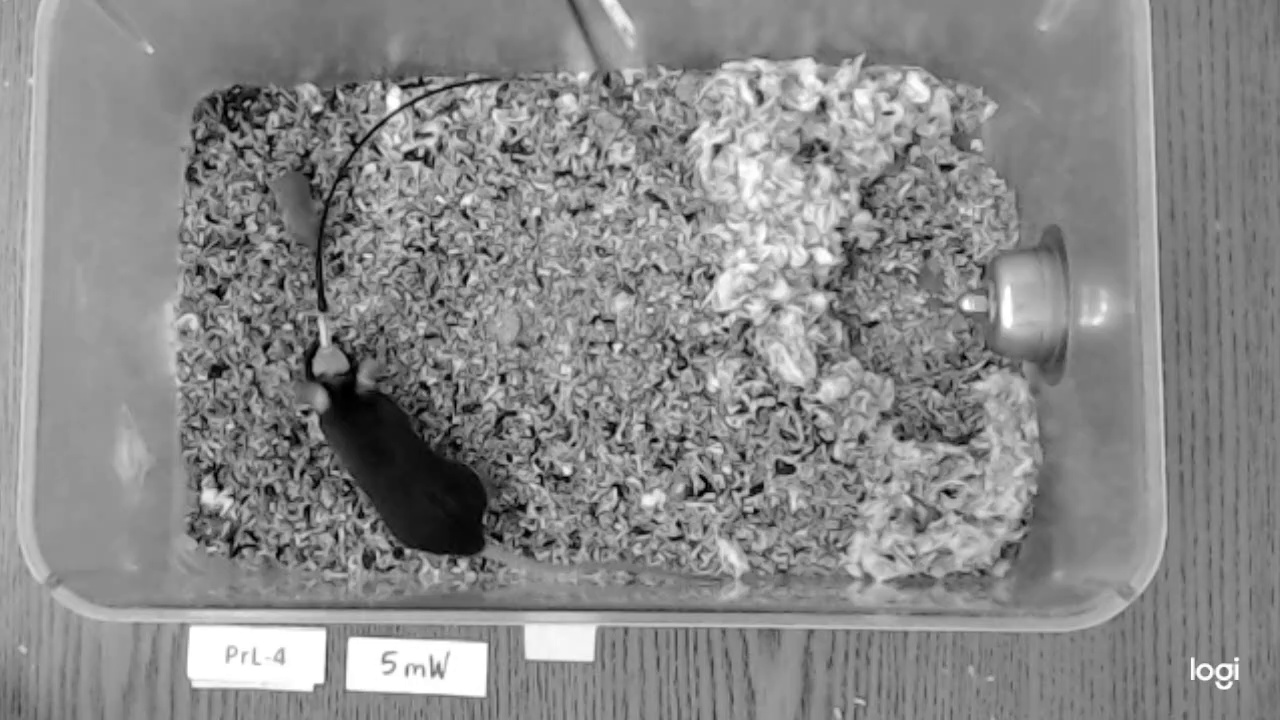parent-mice: (306, 344, 485, 554)
